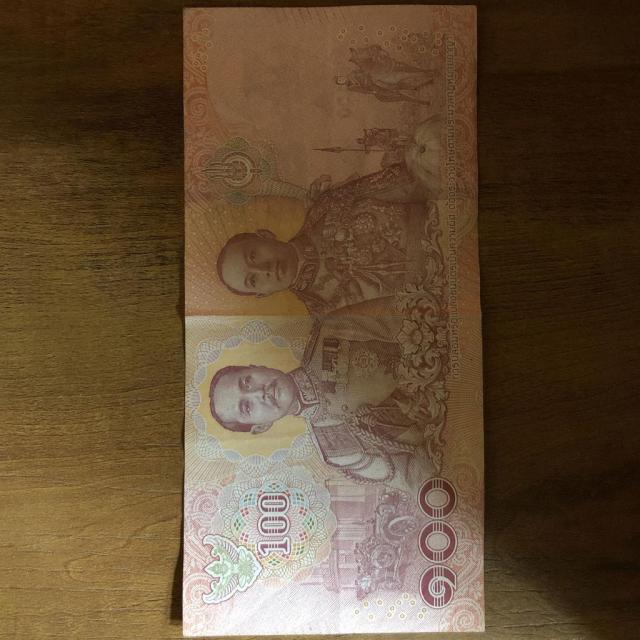THAI100: (182, 5, 483, 636)
